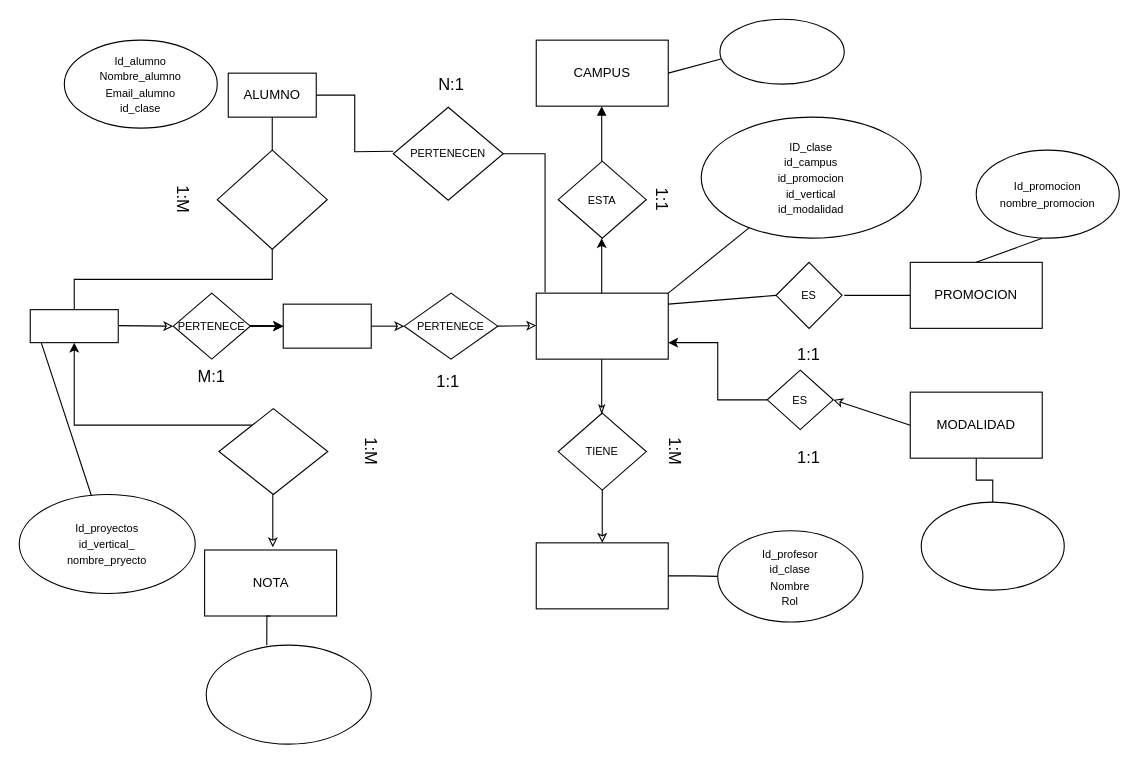
Some shapes in this 1139 by 763 pixel diagram are drawn without their labels. The shapes that lost their labels are listed below. From the top down, each one's centre as x and y in pixels, then its label:
At (x=781, y=51): "ID_CAMPUS NOMBRE_CAMPUS".
At (x=271, y=199): "REALIZAN".
At (x=73, y=326): "PROYECTO".
At (x=326, y=325): "VERTICAL".
At (x=601, y=325): "CLASE".
At (x=273, y=451): "TIENEN".
At (x=992, y=545): "Id_modalidad Nombre".
At (x=601, y=575): "PROFESOR".
At (x=288, y=694): "Id_nota id_proyecto".
